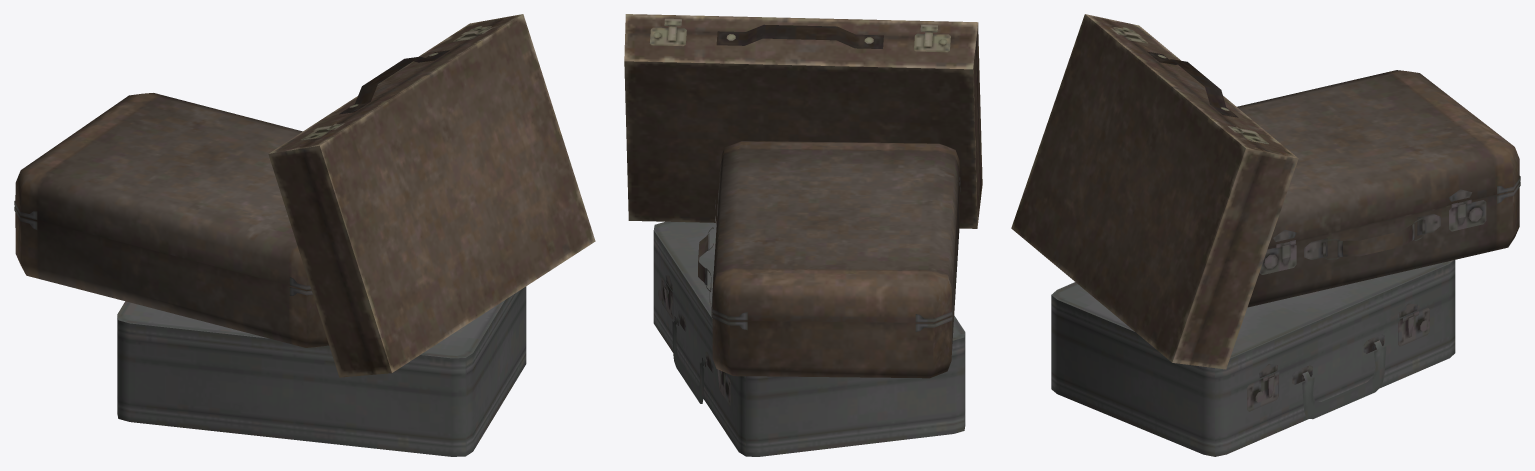
File: ItemSpot.fbx
3 renders of one model, left to right at view 1: azimuth 30°, elevation 25°; view 2: azimuth 150°, elevation 25°; view 3: azimuth 270°, elevation 25°, orthographic. The views are drawn at different scales.
Visible parts, largest first — view 1: ItemBox_Suitcase_03, ItemBox_Suitcase_01, ItemBox_Suitcase_02; view 2: ItemBox_Suitcase_01, ItemBox_Suitcase_03, ItemBox_Suitcase_02; view 3: ItemBox_Suitcase_03, ItemBox_Suitcase_01, ItemBox_Suitcase_02.
Part boxes in pixels (box(x1,y1,x2,y2)): ItemBox_Suitcase_03: box(268, 14, 595, 377); ItemBox_Suitcase_01: box(14, 93, 328, 347); ItemBox_Suitcase_02: box(117, 286, 526, 456); ItemBox_Suitcase_01: box(698, 141, 960, 378); ItemBox_Suitcase_03: box(624, 14, 982, 228); ItemBox_Suitcase_02: box(653, 221, 965, 456); ItemBox_Suitcase_03: box(1011, 14, 1298, 369); ItemBox_Suitcase_01: box(1237, 70, 1520, 307); ItemBox_Suitcase_02: box(1051, 260, 1455, 456).
Bounding box in the file's own units: 1.41 × 0.977 × 1.42.
1 material, 1 textured.
